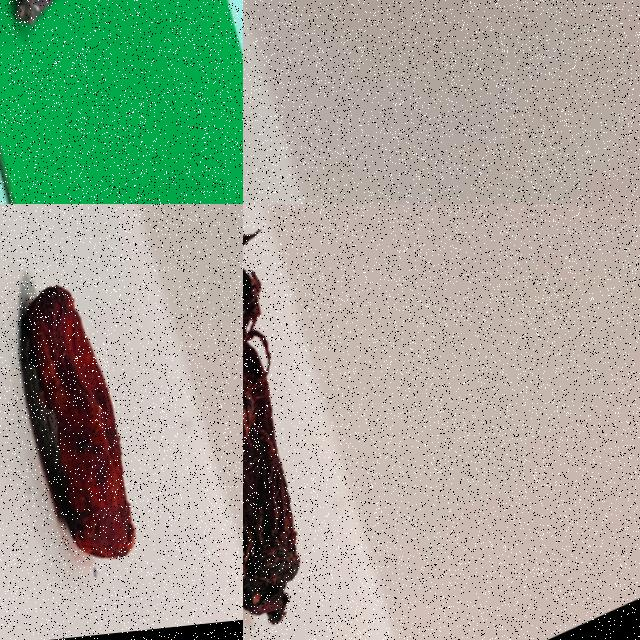Flat_cocoabeans: (0, 204, 242, 639), (243, 204, 453, 639), (0, 0, 210, 139)
